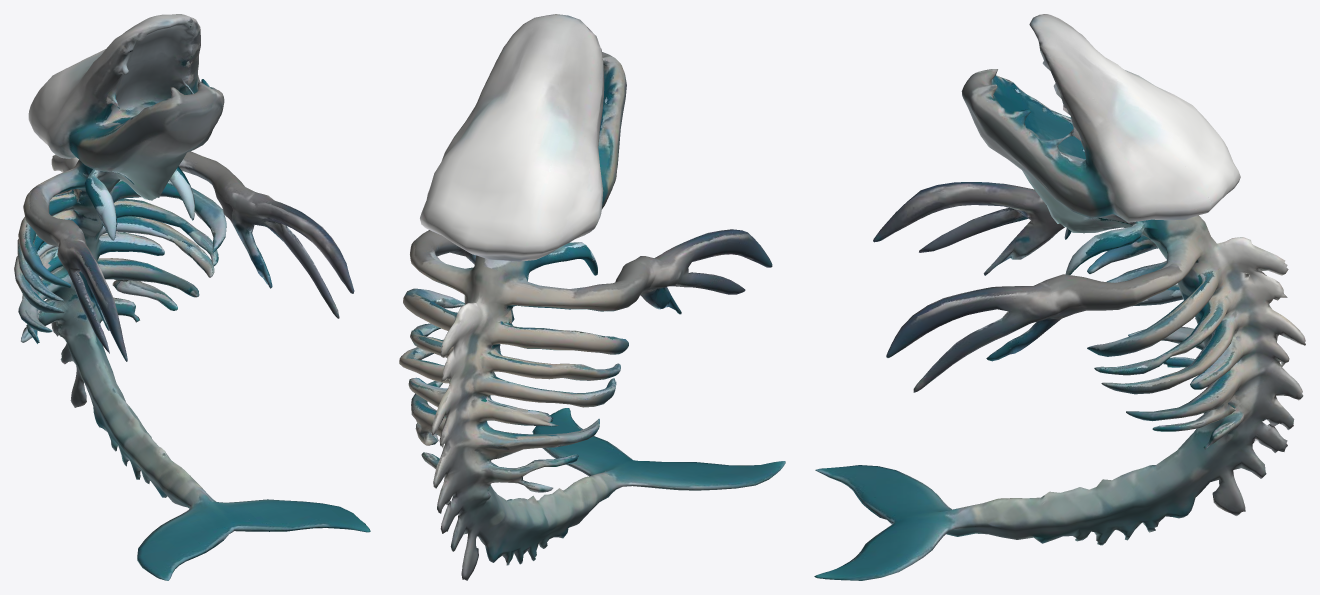
File: Bake_Kujira.glb
3 renders of one model, left to right at view 1: azimuth 30°, elevation 25°; view 2: azimuth 150°, elevation 25°; view 3: azimuth 270°, elevation 25°, orthographic. The views are drawn at different scales.
Visible parts, largest first — view 1: Retopo_Bake-kujira.001; view 2: Retopo_Bake-kujira.001; view 3: Retopo_Bake-kujira.001.
Boxes of the visible parts, box(x1,y1,x2,y2) form: Retopo_Bake-kujira.001: box(14, 14, 370, 580); Retopo_Bake-kujira.001: box(399, 14, 785, 580); Retopo_Bake-kujira.001: box(814, 14, 1305, 580).
Bounding box in the file's own units: 0.9944 × 1.93 × 1.65.
1 material, 1 textured.
